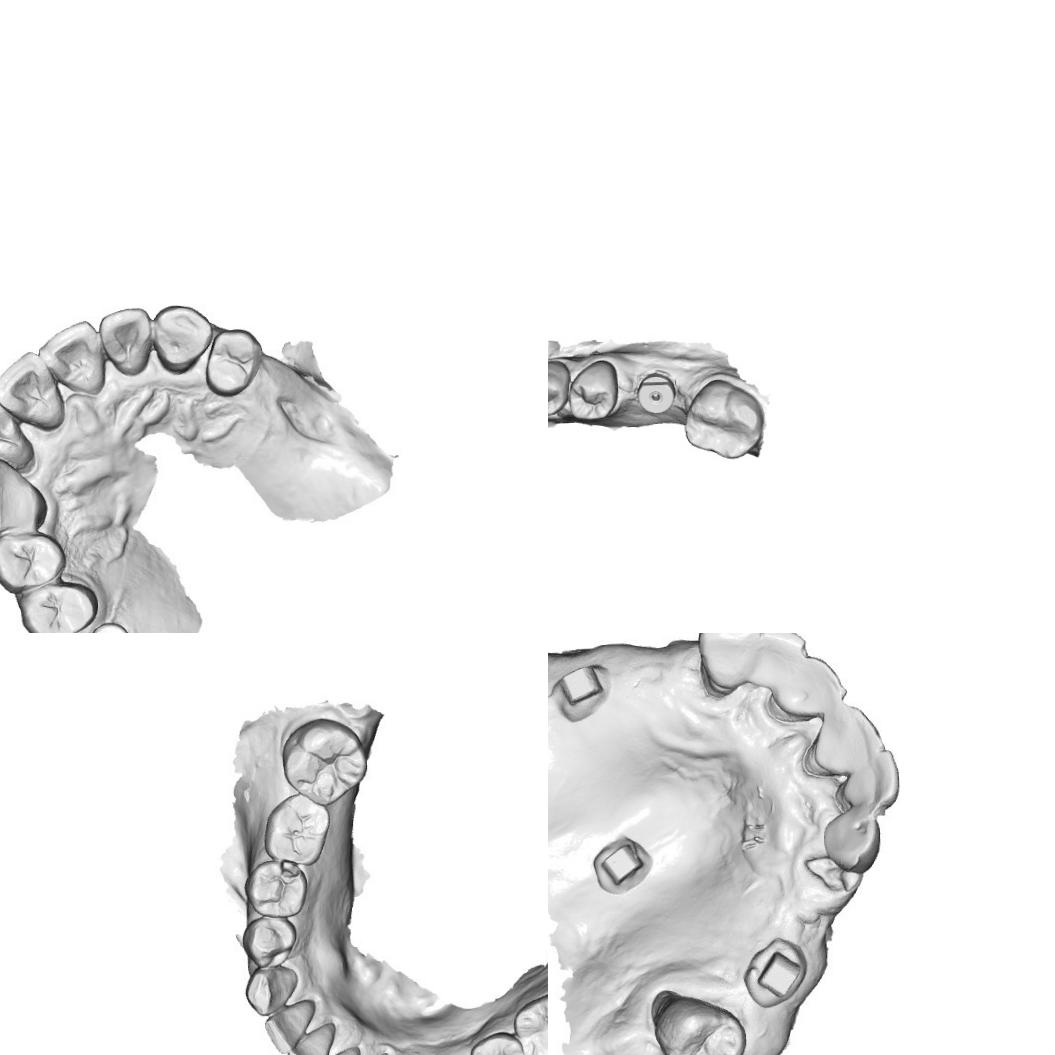canine: (152, 302, 212, 376), (820, 810, 884, 873), (695, 633, 763, 689), (0, 456, 45, 536), (244, 964, 298, 1022)
implant: (636, 371, 677, 416), (90, 620, 133, 633)
incisor: (90, 304, 156, 382), (38, 320, 106, 395), (0, 352, 61, 435), (806, 706, 883, 769), (773, 657, 846, 718), (846, 757, 900, 810), (756, 633, 806, 690), (0, 395, 35, 469), (264, 1002, 310, 1055), (290, 1029, 334, 1055)
molar: (682, 377, 765, 461), (652, 988, 754, 1055), (283, 722, 367, 802), (264, 793, 328, 868), (510, 990, 548, 1055)
premolar: (204, 325, 264, 402), (17, 579, 98, 633), (0, 528, 65, 593), (567, 358, 620, 421), (251, 859, 306, 919), (243, 920, 296, 966), (469, 1029, 528, 1055), (548, 359, 572, 417)
